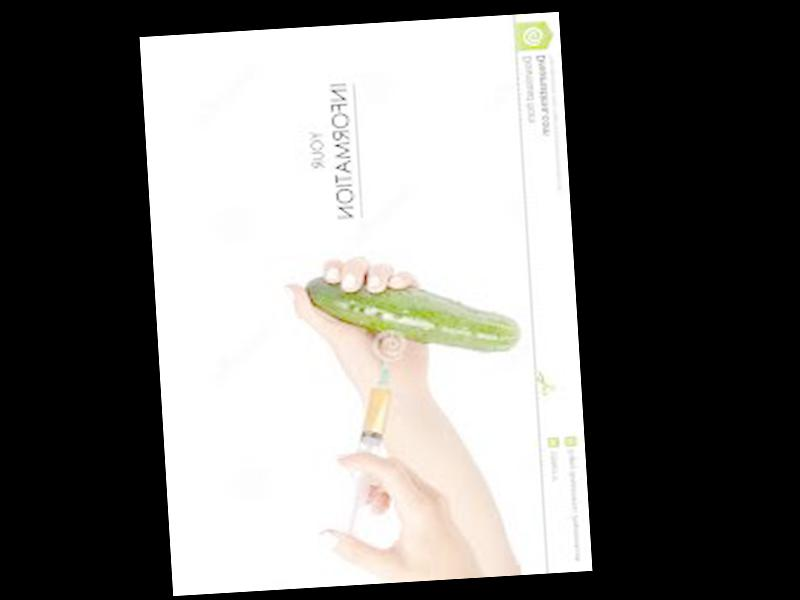Cucumber: (304, 265, 521, 363)
